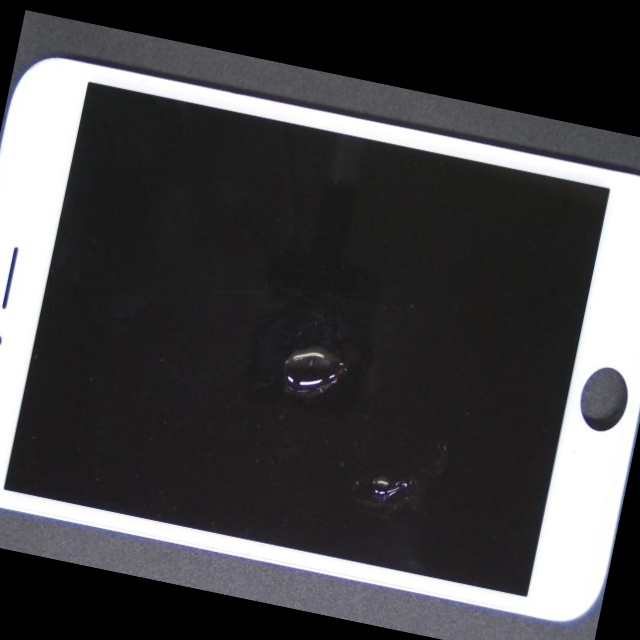oil: (166, 256, 640, 640), (128, 205, 565, 552)
